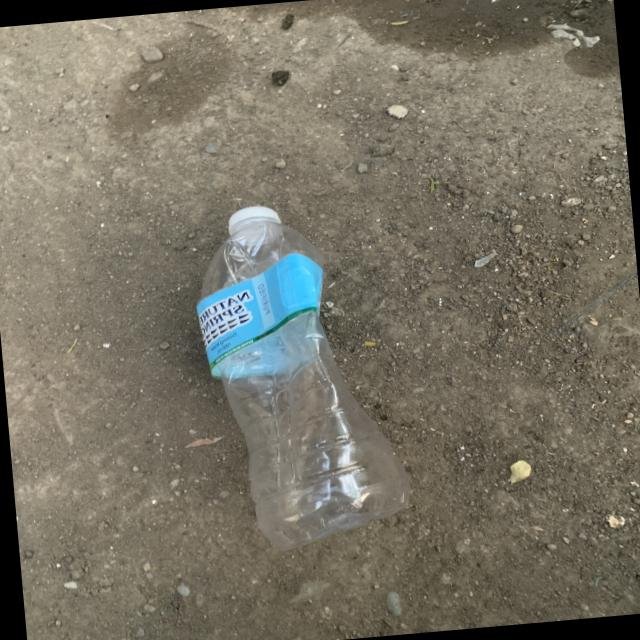Bottle: (197, 206, 409, 548)
